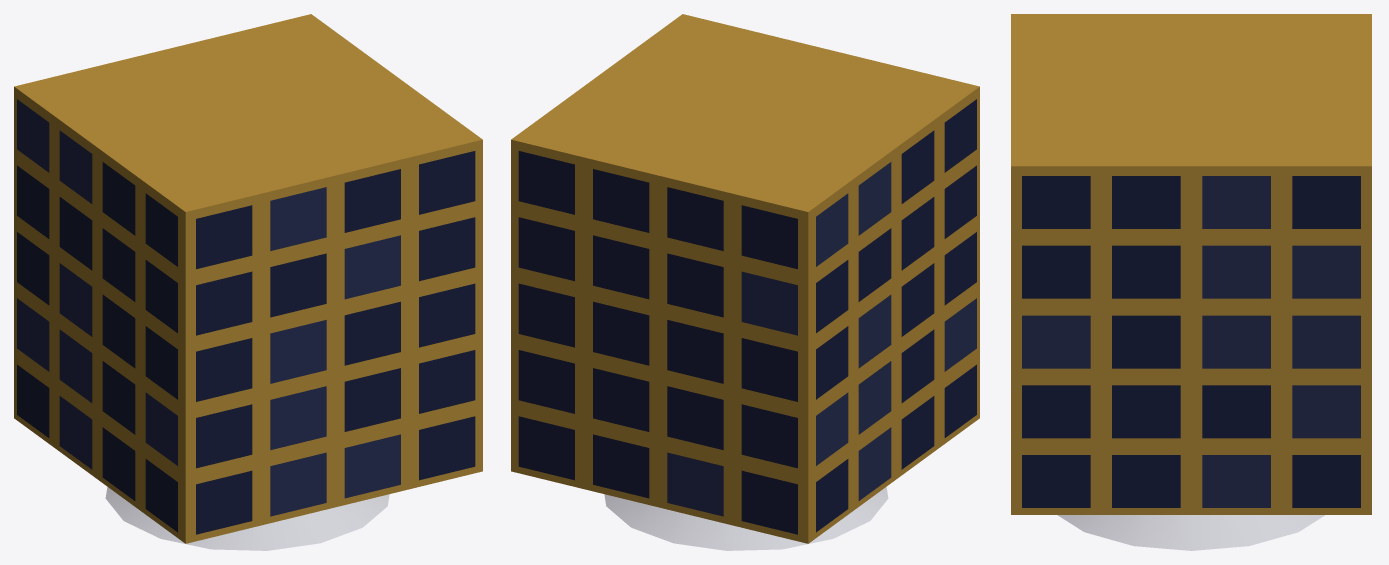
File: gen-box-dish.obj
3 views of the same model, side by side, from view 1: azimuth 30°, elevation 25°; view 2: azimuth 150°, elevation 25°; view 3: azimuth 270°, elevation 25° (orthographic). The views are drawn at different scales.
Visible parts, largest first — view 1: gen-box-dish; view 2: gen-box-dish; view 3: gen-box-dish.
Part boxes in pixels (left/top/right/bottom): gen-box-dish: left=14, top=14, right=482, bottom=550; gen-box-dish: left=511, top=14, right=979, bottom=550; gen-box-dish: left=1011, top=14, right=1371, bottom=550.
Bounding box in the file's own units: 1.52 × 1.95 × 1.52.
